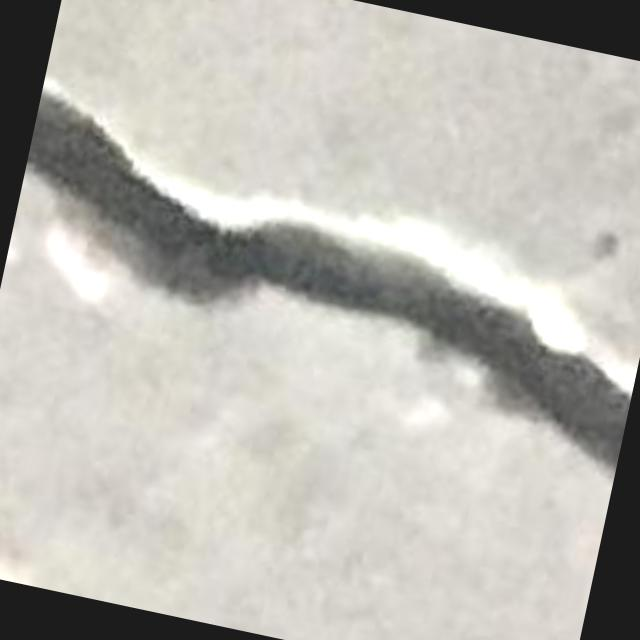crack: (26, 97, 631, 469)
